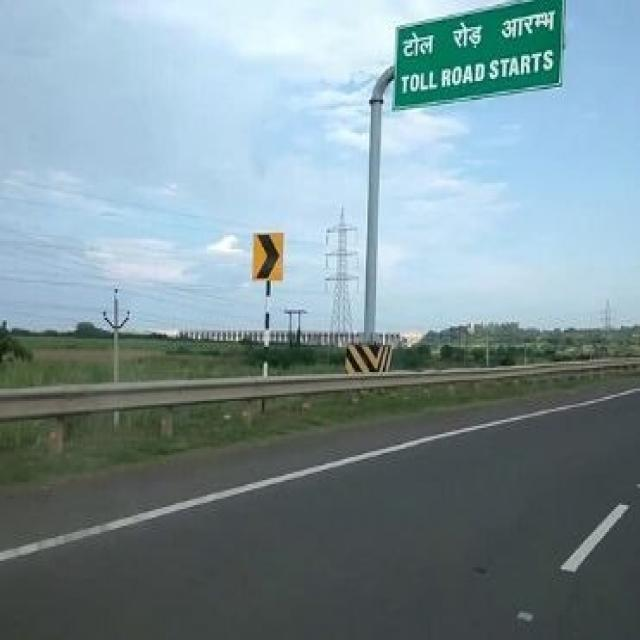chevron_right: (256, 231, 285, 278)
